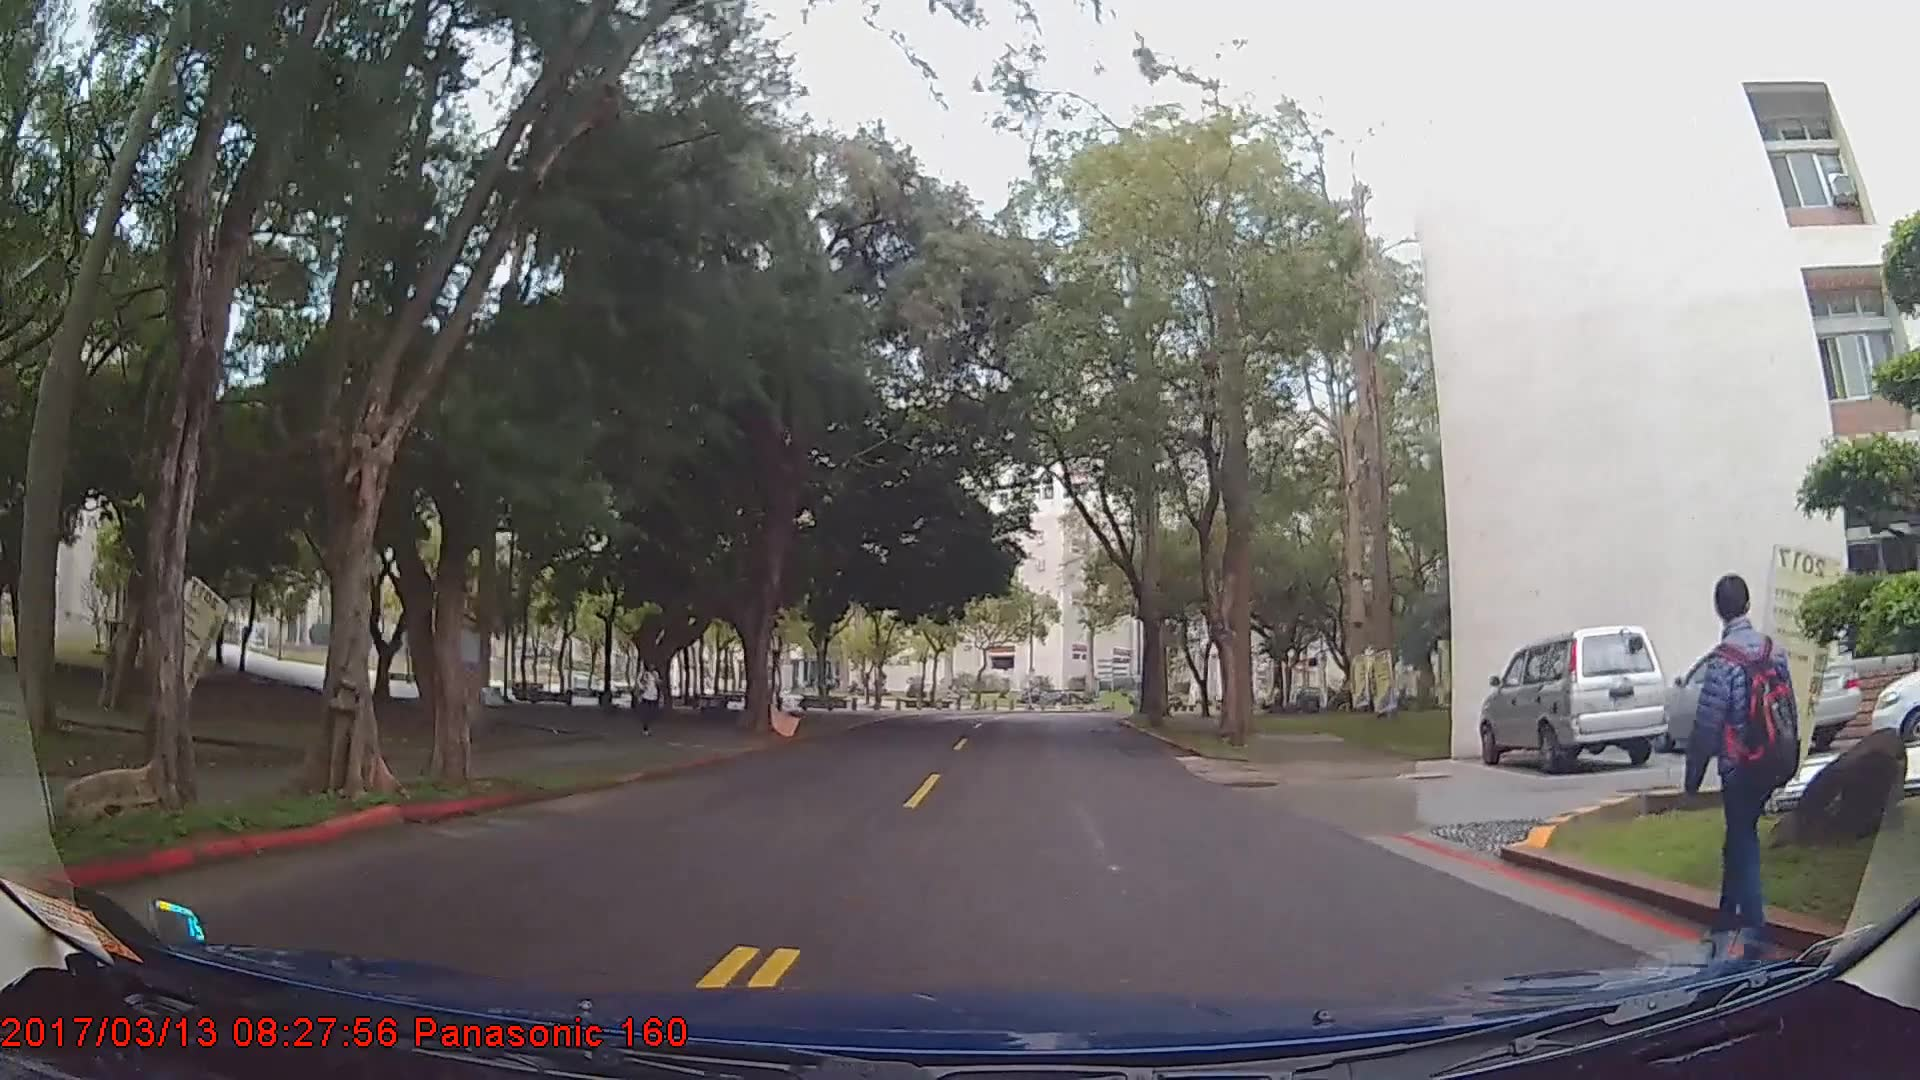pedestrian: (1680, 577, 1804, 960), (635, 658, 665, 737)
vehicle: (1480, 623, 1669, 772)
